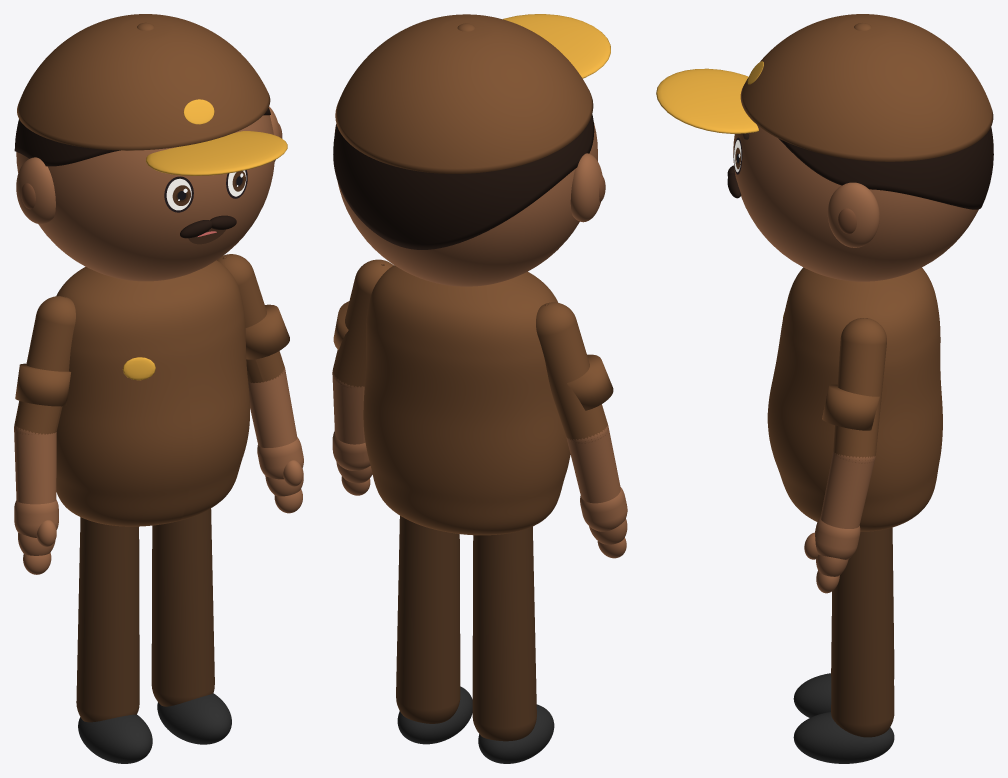
Rendered from bezorger.glb.
3 renders of one model, left to right at view 1: azimuth 30°, elevation 25°; view 2: azimuth 150°, elevation 25°; view 3: azimuth 270°, elevation 25°, orthographic.
Visible parts, largest first — view 1: bezorger_romp, bezorger_pet, bezorger_hoofd, bezorger_been_R, bezorger_been_L, bezorger_pet_klep, bezorger_bovenarm_R, bezorger_onderarm_R, bezorger_schoen_R, bezorger_onderarm_L, bezorger_schoen_L, bezorger_bovenarm_L (+9 smaller); view 2: bezorger_romp, bezorger_pet, bezorger_haar, bezorger_been_R, bezorger_been_L, bezorger_hoofd, bezorger_bovenarm_R, bezorger_pet_klep, bezorger_bovenarm_L, bezorger_onderarm_R, bezorger_schoen_R, bezorger_onderarm_L (+6 smaller); view 3: bezorger_romp, bezorger_pet, bezorger_hoofd, bezorger_been_L, bezorger_haar, bezorger_pet_klep, bezorger_bovenarm_L, bezorger_schoen_L, bezorger_onderarm_L, bezorger_oor_L, bezorger_mouwzoom_L, bezorger_manchet_L (+1 smaller).
Boxes of the visible parts, <box> form: bezorger_romp: <box>56,260,249,526</box>; bezorger_pet: <box>17,14,270,150</box>; bezorger_hoofd: <box>16,115,274,281</box>; bezorger_been_R: <box>76,517,139,722</box>; bezorger_been_L: <box>151,508,214,706</box>; bezorger_pet_klep: <box>146,131,287,175</box>; bezorger_bovenarm_R: <box>14,296,75,434</box>; bezorger_onderarm_R: <box>14,428,56,504</box>; bezorger_schoen_R: <box>78,714,152,763</box>; bezorger_onderarm_L: <box>248,370,297,447</box>; bezorger_schoen_L: <box>157,693,231,744</box>; bezorger_bovenarm_L: <box>217,254,284,382</box>; bezorger_romp: <box>363,265,570,535</box>; bezorger_pet: <box>335,14,593,173</box>; bezorger_haar: <box>333,114,594,249</box>; bezorger_been_R: <box>472,526,536,741</box>; bezorger_been_L: <box>396,516,460,723</box>; bezorger_hoofd: <box>337,122,597,286</box>; bezorger_bovenarm_R: <box>536,302,607,443</box>; bezorger_pet_klep: <box>503,14,610,78</box>; bezorger_bovenarm_L: <box>333,259,393,387</box>; bezorger_onderarm_R: <box>566,428,620,503</box>; bezorger_schoen_R: <box>478,704,554,763</box>; bezorger_onderarm_L: <box>332,370,365,444</box>; bezorger_romp: <box>767,267,942,531</box>; bezorger_pet: <box>740,14,993,161</box>; bezorger_hoofd: <box>733,125,978,281</box>; bezorger_been_L: <box>831,527,894,737</box>; bezorger_haar: <box>778,127,993,209</box>; bezorger_pet_klep: <box>656,68,758,133</box>; bezorger_bovenarm_L: <box>833,318,886,463</box>; bezorger_schoen_L: <box>793,712,894,763</box>; bezorger_onderarm_L: <box>820,452,874,528</box>; bezorger_oor_L: <box>827,182,879,247</box>; bezorger_mouwzoom_L: <box>822,384,879,430</box>; bezorger_manchet_L: <box>815,517,860,559</box>.
Bounding box in the file's own units: 0.7592 × 1.83 × 0.7821.
